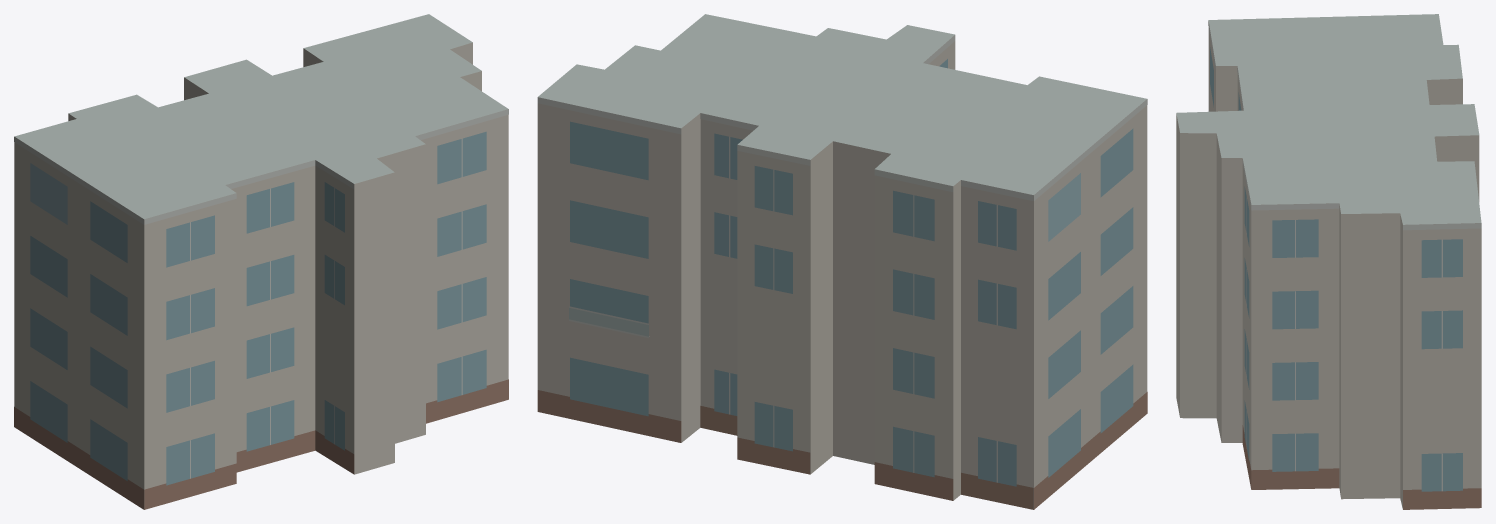
File: survey-upis-32749506.glb
The picture shows the model from 3 angles, left to right: view 1: azimuth 30°, elevation 25°; view 2: azimuth 150°, elevation 25°; view 3: azimuth 270°, elevation 25°; orthographic projection. The views are drawn at different scales.
Parts seen in each view (by area): view 1: survey-upis-32749506.tmp; view 2: survey-upis-32749506.tmp; view 3: survey-upis-32749506.tmp.
Boxes of the visible parts, x1,y1,x2,y2 form: survey-upis-32749506.tmp: (14,14,508,509); survey-upis-32749506.tmp: (537,14,1147,509); survey-upis-32749506.tmp: (1176,14,1481,509).
Size of the model in its own units: 20 by 12.6 by 12.23.
